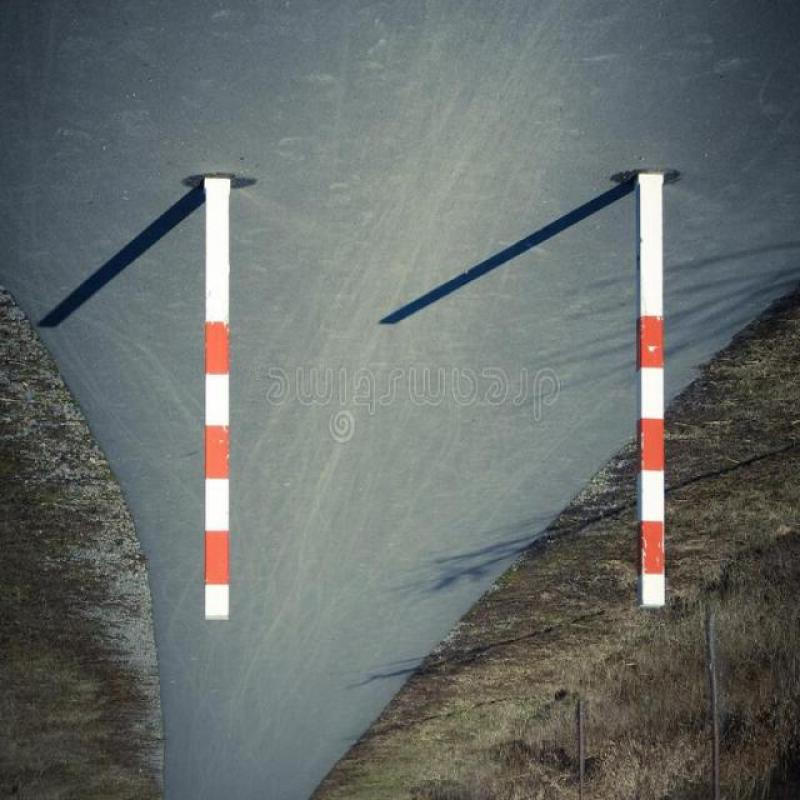pillar: (622, 154, 678, 615), (190, 160, 240, 634)
